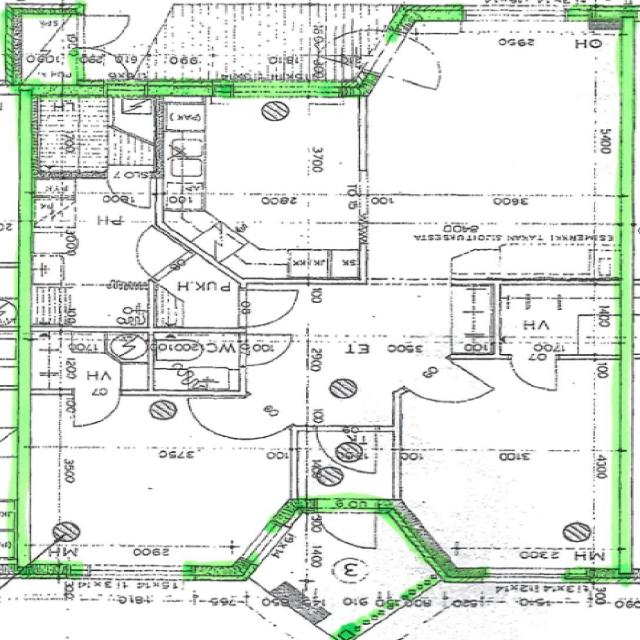door: (360, 30, 460, 93), (305, 13, 405, 75), (202, 394, 292, 456), (403, 357, 491, 418), (116, 226, 194, 280), (316, 500, 376, 557), (317, 426, 376, 473), (238, 290, 297, 327), (106, 171, 150, 210), (77, 15, 129, 48), (510, 355, 555, 392), (74, 390, 119, 427), (238, 334, 290, 366), (77, 48, 129, 79)
